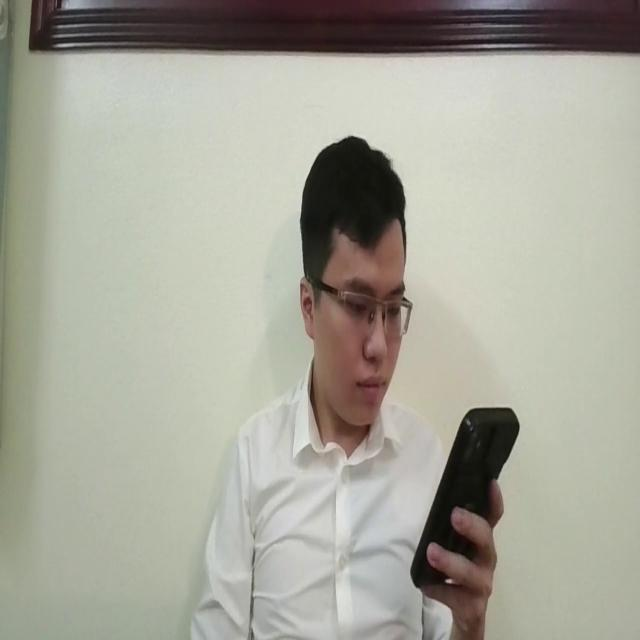phone: (411, 399, 518, 595)
student: (183, 135, 507, 640)
